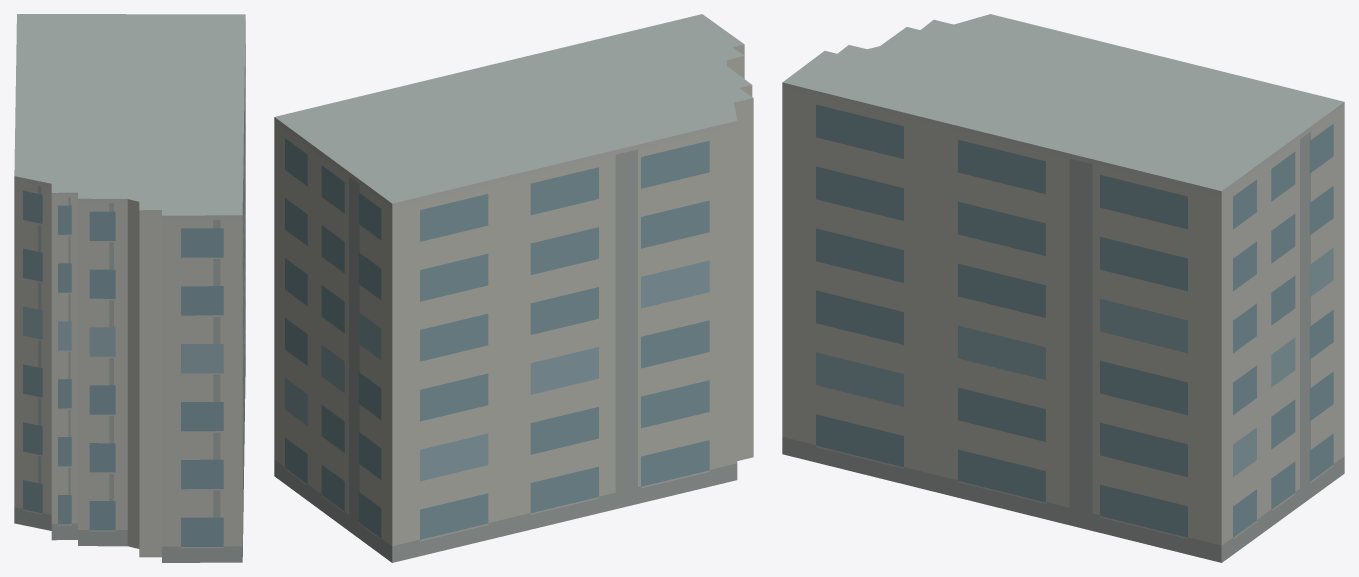
File: survey-upis-32846945.glb
The picture shows the model from 3 angles, left to right: view 1: azimuth 30°, elevation 25°; view 2: azimuth 150°, elevation 25°; view 3: azimuth 270°, elevation 25°; orthographic projection. The views are drawn at different scales.
Visible parts, largest first — view 1: survey-upis-32846945.tmp; view 2: survey-upis-32846945.tmp; view 3: survey-upis-32846945.tmp.
Part boxes in pixels (<box>): survey-upis-32846945.tmp: <box>14,14,245,562</box>; survey-upis-32846945.tmp: <box>274,14,753,562</box>; survey-upis-32846945.tmp: <box>782,14,1344,562</box>.
Bounding box in the file's own units: 18.82 × 18.4 × 25.24.
